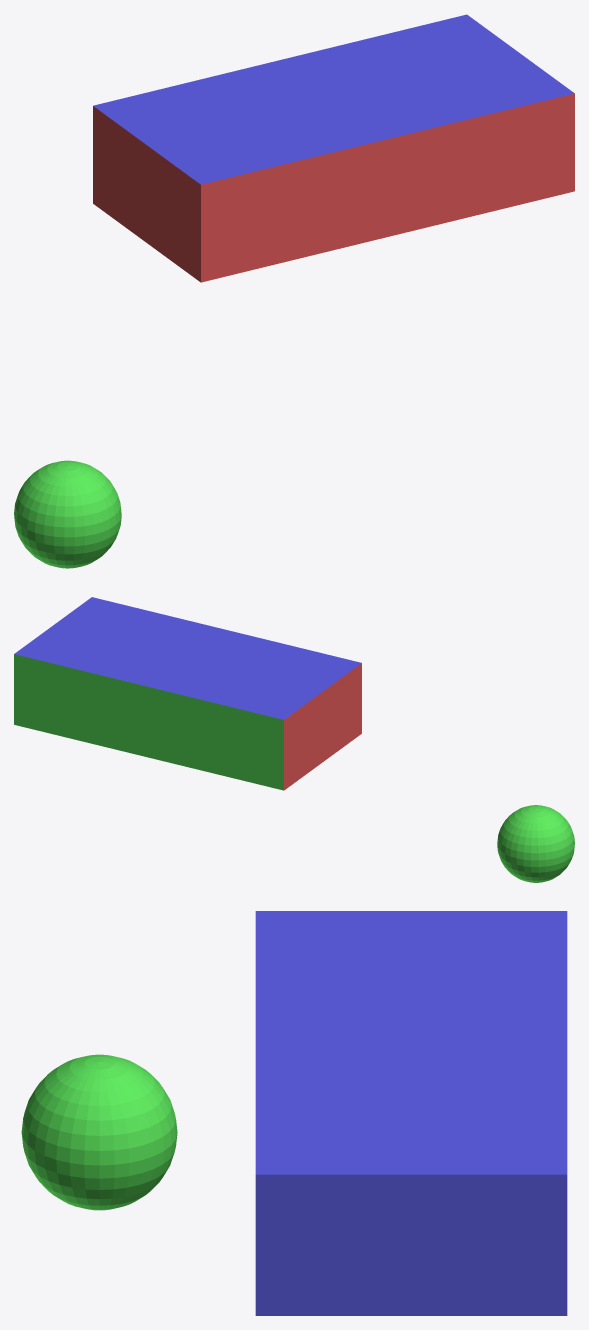
The model's file is multi.fbx.
The picture shows the model from 3 angles, top to bottom: view 1: azimuth 30°, elevation 25°; view 2: azimuth 150°, elevation 25°; view 3: azimuth 270°, elevation 25°; orthographic projection. The views are drawn at different scales.
Parts seen in each view (by area): view 1: Crate, Ball; view 2: Crate, Ball; view 3: Crate, Ball.
Part boxes in pixels (x1,y1,x2,y2): Crate: (93, 14, 574, 282); Ball: (14, 460, 121, 568); Crate: (14, 597, 361, 790); Ball: (497, 805, 574, 882); Crate: (255, 911, 567, 1315); Ball: (21, 1054, 177, 1210).
Size of the model in its own units: 650 by 300 by 350.
